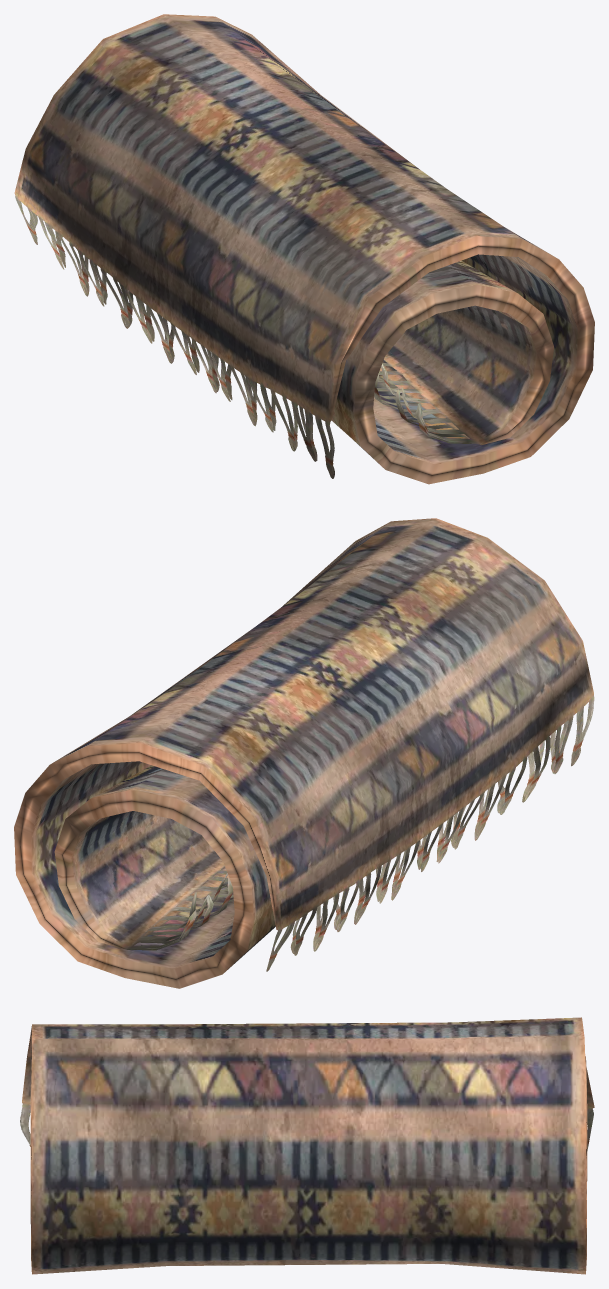
3 views of the same model, one above another, from view 1: azimuth 30°, elevation 25°; view 2: azimuth 150°, elevation 25°; view 3: azimuth 270°, elevation 25° (orthographic). The views are drawn at different scales.
Parts seen in each view (by area): view 1: SM_Moon_Garou_Decoration_Carpet_01v3_LOD0; view 2: SM_Moon_Garou_Decoration_Carpet_01v3_LOD0; view 3: SM_Moon_Garou_Decoration_Carpet_01v3_LOD0.
Part boxes in pixels (x1,y1,x2,y2): SM_Moon_Garou_Decoration_Carpet_01v3_LOD0: (14,14,594,484); SM_Moon_Garou_Decoration_Carpet_01v3_LOD0: (14,518,594,988); SM_Moon_Garou_Decoration_Carpet_01v3_LOD0: (20,1017,594,1274).
Bounding box in the file's own units: 0.9973 × 0.8383 × 2.05.
Materials: 1 (1 with a texture image).
